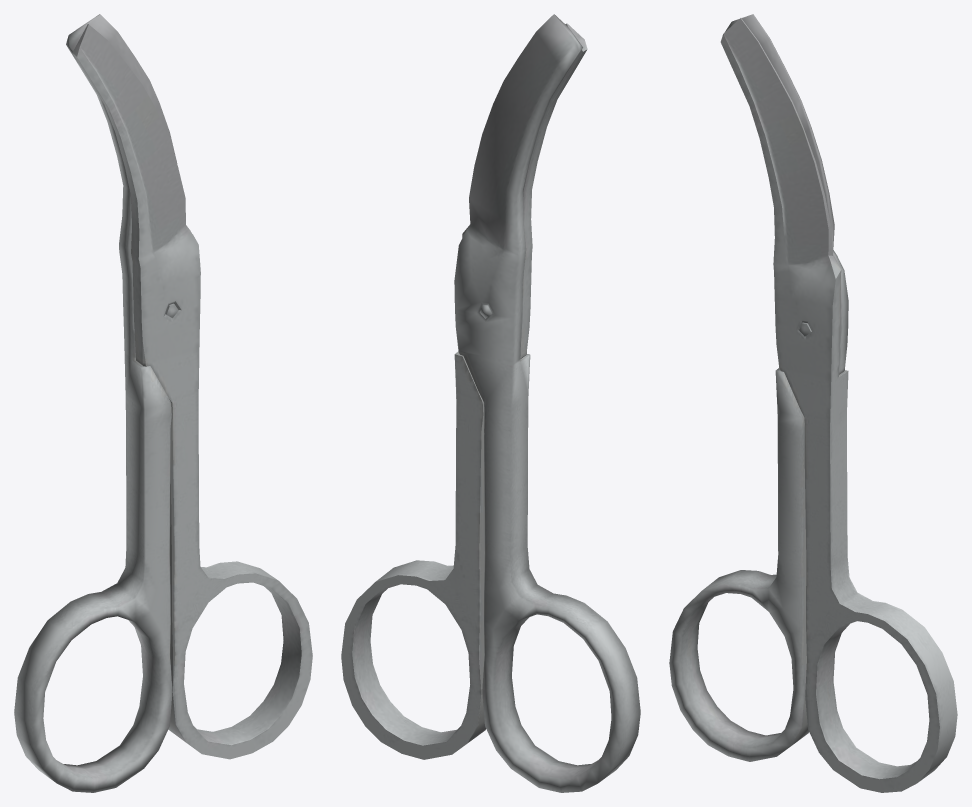
Rendered from model_KeoMayo.fbx.
3 views of the same model, side by side, from view 1: azimuth 30°, elevation 25°; view 2: azimuth 150°, elevation 25°; view 3: azimuth 330°, elevation 25° (orthographic). The views are drawn at different scales.
Parts seen in each view (by area): view 1: KeoMayo2, KeoMayo1; view 2: KeoMayo1, KeoMayo2; view 3: KeoMayo2, KeoMayo1.
Boxes of the visible parts, x1=… form: KeoMayo2: x1=72, y1=24, x2=312, y2=759; KeoMayo1: x1=14, y1=14, x2=177, y2=792; KeoMayo1: x1=454, y1=14, x2=640, y2=792; KeoMayo2: x1=341, y1=23, x2=587, y2=759; KeoMayo2: x1=720, y1=18, x2=957, y2=792; KeoMayo1: x1=669, y1=14, x2=848, y2=761.
Size of the model in its own units: 1.45 by 3.8 by 0.1768.
1 material, 1 textured.
